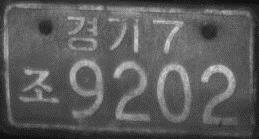0: (157, 62, 194, 126)
2: (200, 63, 241, 128), (111, 60, 152, 123)
7: (152, 18, 185, 55)
9: (67, 57, 105, 121)
경기_O: (64, 15, 141, 56)
조: (18, 67, 61, 106)
